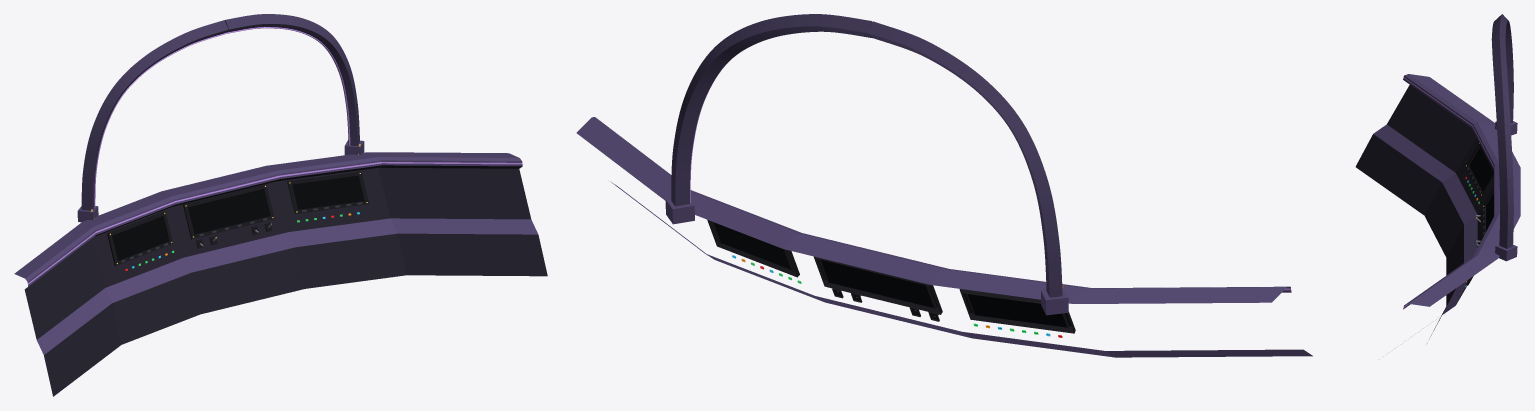
File: cabina.obj
3 renders of one model, left to right at view 1: azimuth 30°, elevation 25°; view 2: azimuth 150°, elevation 25°; view 3: azimuth 270°, elevation 25°, orthographic. The views are drawn at different scales.
Parts seen in each view (by area): view 1: tablero_panel, tablero_casco, pilar, bisel, pantalla_centro, pantalla_der, pantalla_izq, tablero_filo, tablero_oscuro, pilar_filo, pilar_base; view 2: tablero_casco, pilar, bisel, pantalla_centro, pantalla_izq, pantalla_der, pilar_base; view 3: tablero_panel, tablero_casco, pilar, pantalla_izq, bisel, pilar_base, tablero_filo, pantalla_centro.
Part boxes in pixels (left/top/right/bottom): tablero_panel: left=24, top=167, right=547, bottom=396; tablero_casco: left=14, top=152, right=538, bottom=354; pilar: left=81, top=14, right=359, bottom=210; bisel: left=107, top=171, right=369, bottom=265; pantalla_centro: left=188, top=189, right=269, bottom=234; pantalla_der: left=292, top=175, right=364, bottom=209; pantalla_izq: left=112, top=216, right=168, bottom=260; tablero_filo: left=28, top=162, right=522, bottom=284; tablero_oscuro: left=95, top=165, right=522, bottom=236; pilar_filo: left=94, top=27, right=350, bottom=207; pilar_base: left=77, top=140, right=364, bottom=222; tablero_casco: left=576, top=117, right=1312, bottom=357; pilar: left=671, top=14, right=1062, bottom=297; bisel: left=707, top=220, right=1075, bottom=333; pantalla_centro: left=821, top=260, right=933, bottom=307; pantalla_izq: left=967, top=294, right=1067, bottom=327; pantalla_der: left=713, top=222, right=790, bottom=269; pilar_base: left=665, top=198, right=1068, bottom=315; tablero_panel: left=1355, top=85, right=1493, bottom=338; tablero_casco: left=1373, top=74, right=1520, bottom=314; pilar: left=1491, top=14, right=1513, bottom=248; pantalla_izq: left=1469, top=147, right=1493, bottom=191; bisel: left=1465, top=143, right=1493, bottom=285; pilar_base: left=1495, top=121, right=1517, bottom=261; tablero_filo: left=1403, top=77, right=1494, bottom=307; pantalla_centro: left=1486, top=193, right=1493, bottom=231.
Bounding box in the file's own units: 5.2 × 2.62 × 1.58.
